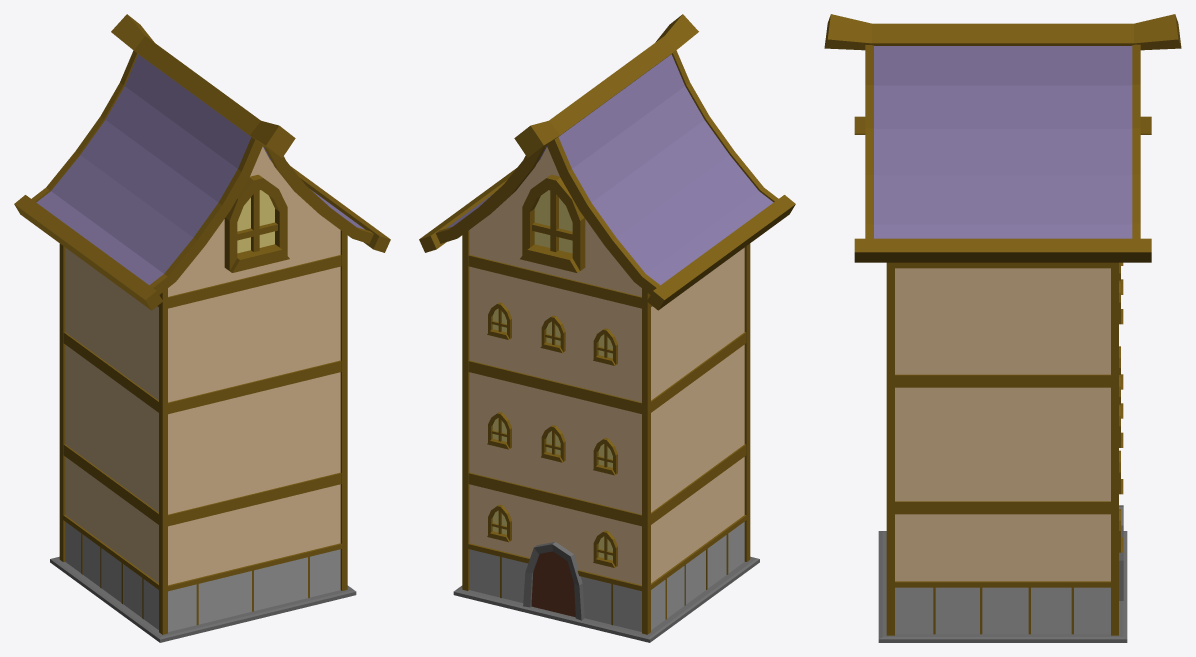
The model's file is villagetower.fbx.
3 views of the same model, side by side, from view 1: azimuth 30°, elevation 25°; view 2: azimuth 150°, elevation 25°; view 3: azimuth 270°, elevation 25° (orthographic). The views are drawn at different scales.
Parts seen in each view (by area): view 1: Cube.035, Cube.036, Cube.034, Cube.043, Cube.050, Cube.042, Cube.047, Cube.046, Cube.044, Plane.007, Cube.039, Cube.040 (+4 smaller); view 2: Cube.035, Cube.036, Cube.034, Cube.043, Cube.049, Cube.042, Cube.047, Cube.046, Cube.044, Plane.007, Cube.038, Cube.041 (+14 smaller); view 3: Cube.035, Cube.036, Cube.034, Cube.042, Cube.045, Plane.007, Cube.043, Cube.040, Cube.047, Cube.046, Cube.041, Cube.048 (+1 smaller).
Part boxes in pixels (<box>): Cube.035: <box>65,147,340,585</box>; Cube.036: <box>36,54,364,285</box>; Cube.034: <box>65,522,340,631</box>; Cube.043: <box>31,50,373,294</box>; Cube.050: <box>224,174,289,272</box>; Cube.042: <box>111,14,295,157</box>; Cube.047: <box>63,332,341,414</box>; Cube.046: <box>63,444,341,526</box>; Cube.044: <box>14,195,162,310</box>; Plane.007: <box>50,556,356,642</box>; Cube.039: <box>159,288,167,634</box>; Cube.040: <box>340,230,347,590</box>; Cube.035: <box>469,147,744,585</box>; Cube.036: <box>446,54,773,285</box>; Cube.034: <box>469,522,744,631</box>; Cube.043: <box>436,50,778,294</box>; Cube.049: <box>520,174,585,273</box>; Cube.042: <box>514,14,698,157</box>; Cube.047: <box>468,332,746,413</box>; Cube.046: <box>468,444,746,526</box>; Cube.044: <box>647,195,795,310</box>; Plane.007: <box>453,556,759,642</box>; Cube.038: <box>642,288,650,634</box>; Cube.041: <box>462,230,469,590</box>; Cube.035: <box>895,268,1110,581</box>; Cube.036: <box>874,46,1132,238</box>; Cube.034: <box>895,587,1110,633</box>; Cube.042: <box>824,14,1181,50</box>; Cube.045: <box>854,238,1151,262</box>; Plane.007: <box>878,531,1127,642</box>; Cube.043: <box>865,44,1140,238</box>; Cube.040: <box>886,262,894,635</box>; Cube.047: <box>895,374,1110,387</box>; Cube.046: <box>895,501,1110,514</box>; Cube.041: <box>1111,262,1118,635</box>; Cube.048: <box>895,262,1110,268</box>.
Size of the model in its own units: 135 by 268 by 151.
